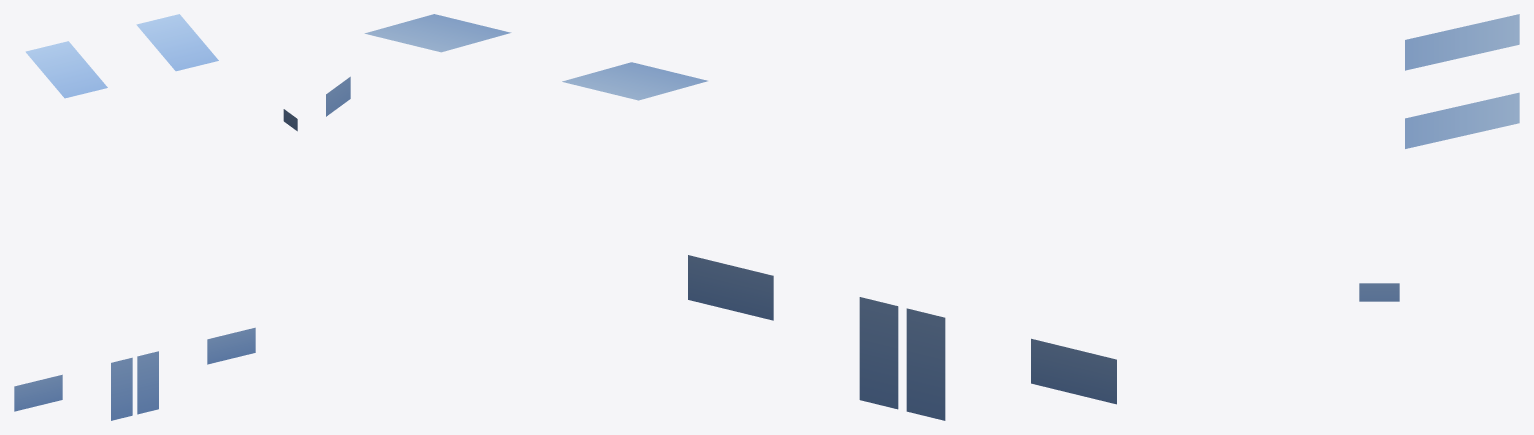
File: 070_0_5_building-f_1.glb
3 renders of one model, left to right at view 1: azimuth 30°, elevation 25°; view 2: azimuth 150°, elevation 25°; view 3: azimuth 270°, elevation 25°, orthographic. The views are drawn at different scales.
Parts seen in each view (by area): view 1: 0_5_building-f_1; view 2: 0_5_building-f_1; view 3: 0_5_building-f_1.
Part boxes in pixels (x1,y1,x2,y2): 0_5_building-f_1: [14, 14, 297, 420]; 0_5_building-f_1: [326, 14, 1116, 420]; 0_5_building-f_1: [1359, 14, 1519, 301].
Bounding box in the file's own units: 1.48 × 1.05 × 0.9266.
Materials: 1 (1 with a texture image).
